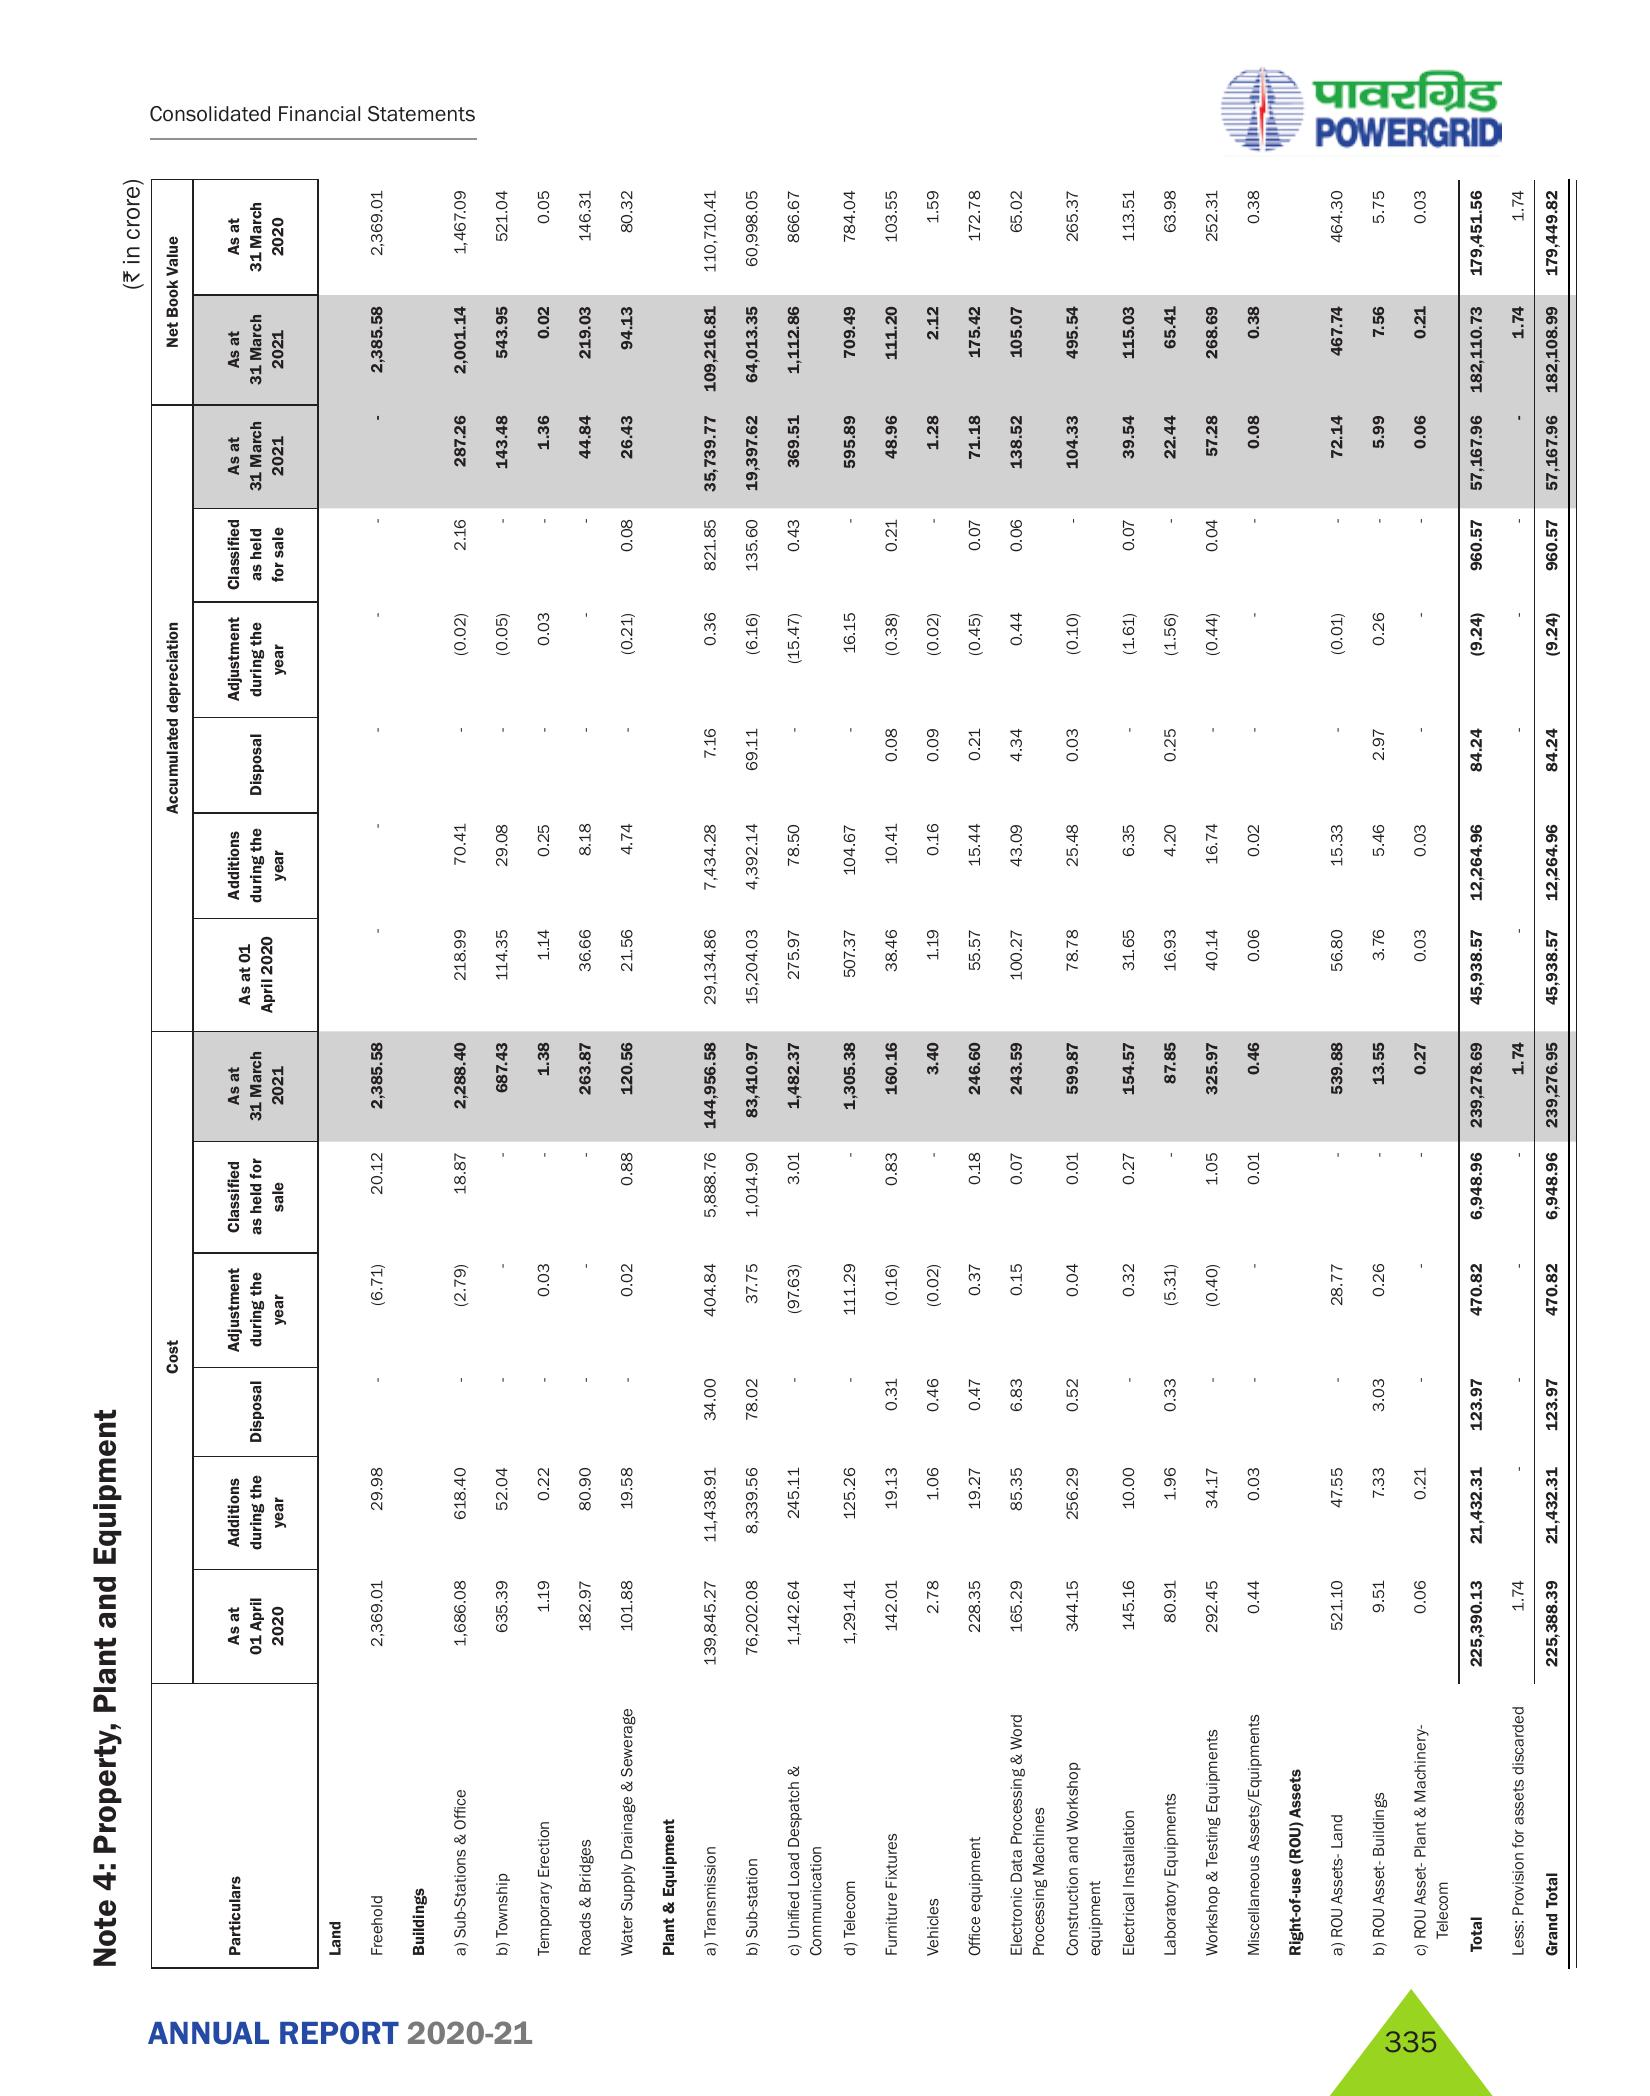Footer: (0, 1956, 1650, 2096)
Header: (0, 0, 1650, 155)
Table: (90, 172, 1597, 1979)
